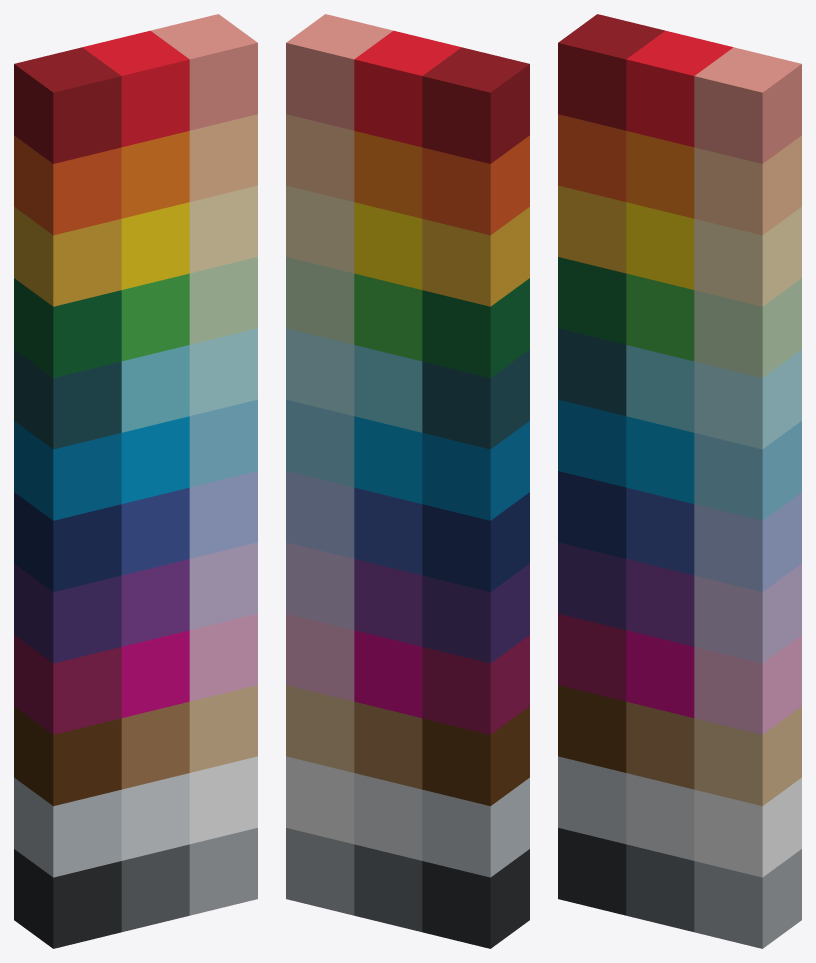
File: tinker.obj
3 renders of one model, left to right at view 1: azimuth 30°, elevation 25°; view 2: azimuth 150°, elevation 25°; view 3: azimuth 330°, elevation 25°, orthographic.
Visible parts, largest first — view 1: group_0_9771553, group_0_1206582, group_0_30377, group_0_4796018, group_0_6306067, group_0_9444435, group_0_14900002, group_0_1650274, group_0_1855578, group_0_2829873, group_0_12568524, group_0_14789940 (+24 smaller); view 2: group_0_9771553, group_0_1206582, group_0_30377, group_0_4796018, group_0_6306067, group_0_9444435, group_0_14900002, group_0_1650274, group_0_1855578, group_0_2829873, group_0_12568524, group_0_14789940 (+24 smaller); view 3: group_0_15308428, group_0_13165757, group_0_8768998, group_0_13877221, group_0_14860437, group_0_15708628, group_0_16500122, group_0_10988977, group_0_11452141, group_0_11593967, group_0_16311991, group_0_16448250 (+24 smaller).
Boxes of the visible parts, x1=… form: group_0_9771553: x1=14, y1=47, x2=121, y2=163; group_0_1206582: x1=14, y1=278, x2=121, y2=377; group_0_30377: x1=14, y1=421, x2=121, y2=520; group_0_4796018: x1=14, y1=563, x2=121, y2=663; group_0_6306067: x1=14, y1=706, x2=121, y2=806; group_0_9444435: x1=14, y1=635, x2=121, y2=734; group_0_14900002: x1=14, y1=135, x2=121, y2=235; group_0_1650274: x1=14, y1=492, x2=121, y2=591; group_0_1855578: x1=14, y1=349, x2=121, y2=449; group_0_2829873: x1=14, y1=849, x2=121, y2=948; group_0_12568524: x1=14, y1=777, x2=121, y2=877; group_0_14789940: x1=14, y1=207, x2=121, y2=306; group_0_9771553: x1=422, y1=47, x2=529, y2=163; group_0_1206582: x1=422, y1=278, x2=529, y2=377; group_0_30377: x1=422, y1=421, x2=529, y2=520; group_0_4796018: x1=422, y1=563, x2=529, y2=663; group_0_6306067: x1=422, y1=706, x2=529, y2=806; group_0_9444435: x1=422, y1=635, x2=529, y2=734; group_0_14900002: x1=422, y1=135, x2=529, y2=235; group_0_1650274: x1=422, y1=492, x2=529, y2=591; group_0_1855578: x1=422, y1=349, x2=529, y2=449; group_0_2829873: x1=422, y1=849, x2=529, y2=948; group_0_12568524: x1=422, y1=777, x2=529, y2=877; group_0_14789940: x1=422, y1=207, x2=529, y2=306; group_0_15308428: x1=694, y1=47, x2=801, y2=163; group_0_13165757: x1=694, y1=278, x2=801, y2=377; group_0_8768998: x1=694, y1=421, x2=801, y2=520; group_0_13877221: x1=694, y1=563, x2=801, y2=663; group_0_14860437: x1=694, y1=706, x2=801, y2=806; group_0_15708628: x1=694, y1=635, x2=801, y2=734; group_0_16500122: x1=694, y1=135, x2=801, y2=235; group_0_10988977: x1=694, y1=849, x2=801, y2=948; group_0_11452141: x1=694, y1=492, x2=801, y2=591; group_0_11593967: x1=694, y1=349, x2=801, y2=449; group_0_16311991: x1=694, y1=207, x2=801, y2=306; group_0_16448250: x1=694, y1=777, x2=801, y2=877.
Bounding box in the file's own units: 3 × 12 × 1.
